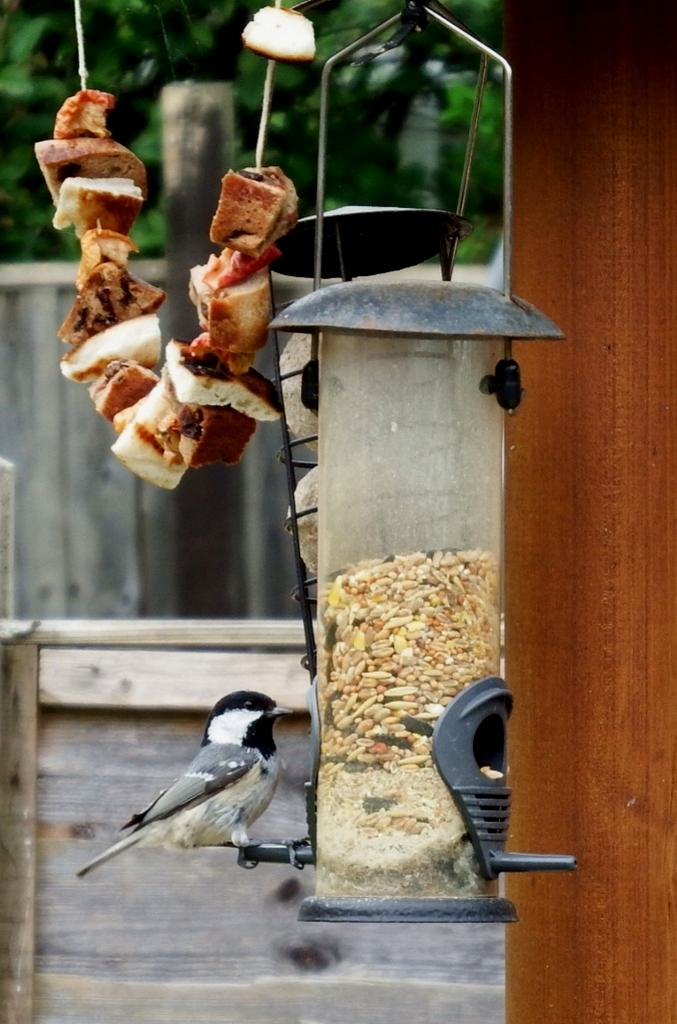PeriparusAter: (75, 687, 310, 882)
